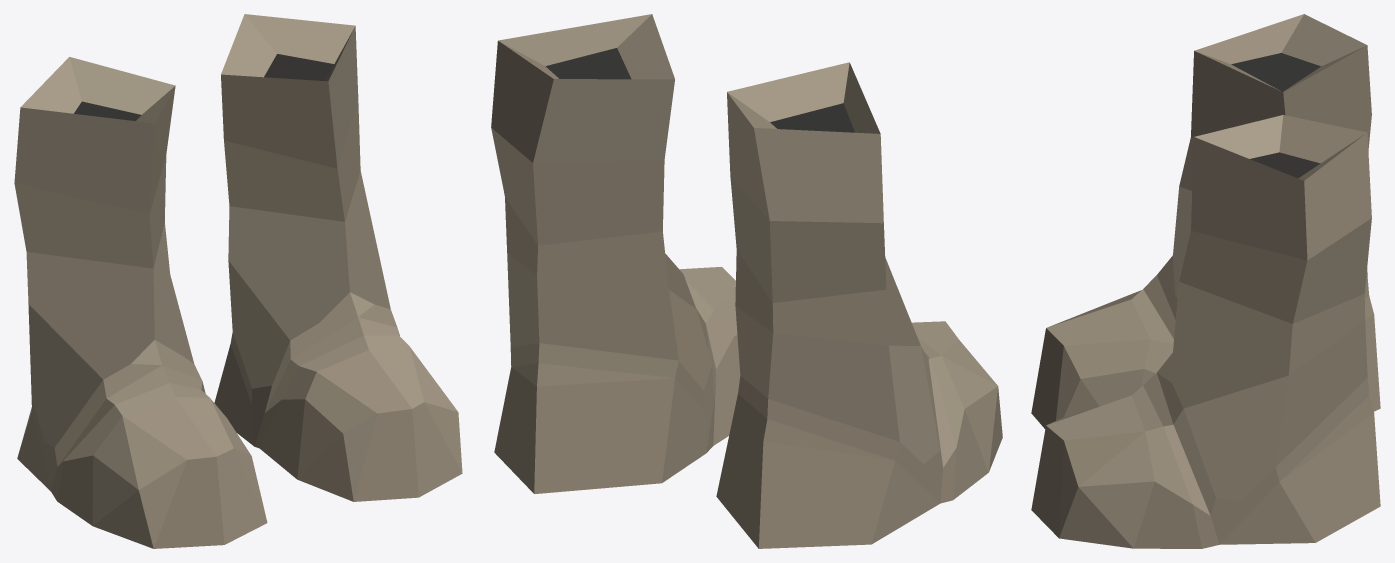
Rendered from Botas de mago .fbx.
3 renders of one model, left to right at view 1: azimuth 30°, elevation 25°; view 2: azimuth 150°, elevation 25°; view 3: azimuth 270°, elevation 25°, orthographic. The views are drawn at different scales.
Visible parts, largest first — view 1: botas; view 2: botas; view 3: botas.
Boxes of the visible parts, box(x1,y1,x2,y2) form: botas: box(14, 14, 462, 548); botas: box(491, 14, 1002, 548); botas: box(1031, 14, 1380, 548).
Size of the model in its own units: 95.75 by 92.41 by 78.46.
